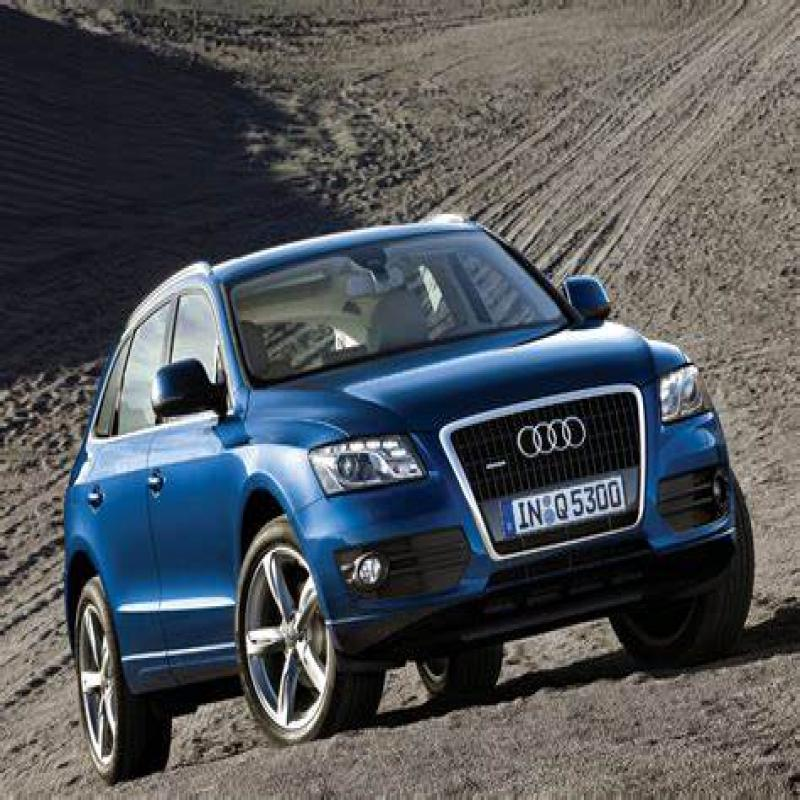car: (53, 184, 778, 780)
